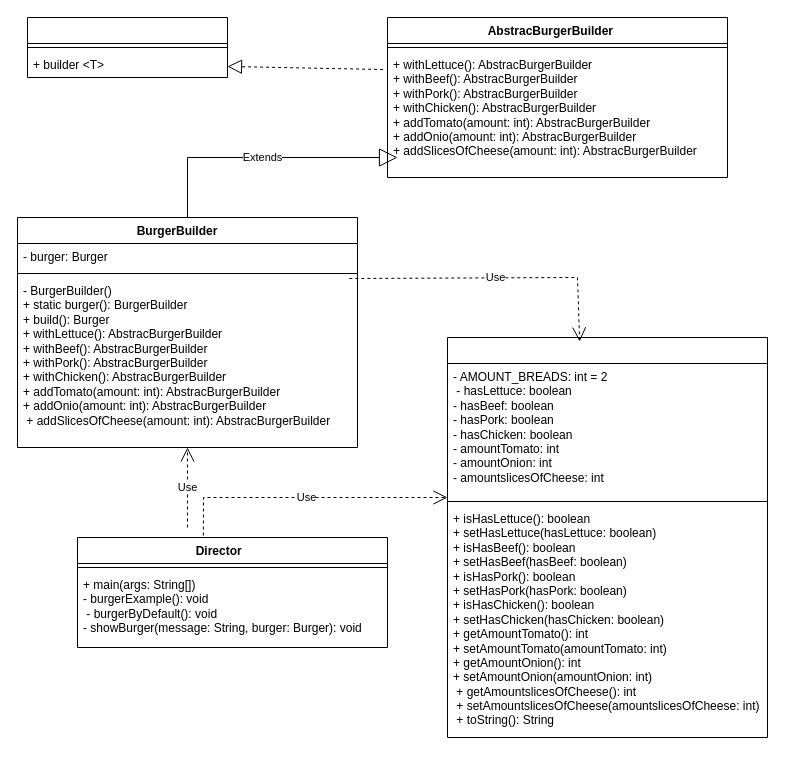
Image size: 785x758. Some labels were removed from this diagram. The shapes that lost their labels are listed below. From the top down, each one's box as (x1, y1, x2, y2) in pixels, then its label:
(26, 16, 228, 78): <<Interfaz Builder <T> >>
(446, 336, 768, 738): Burger
